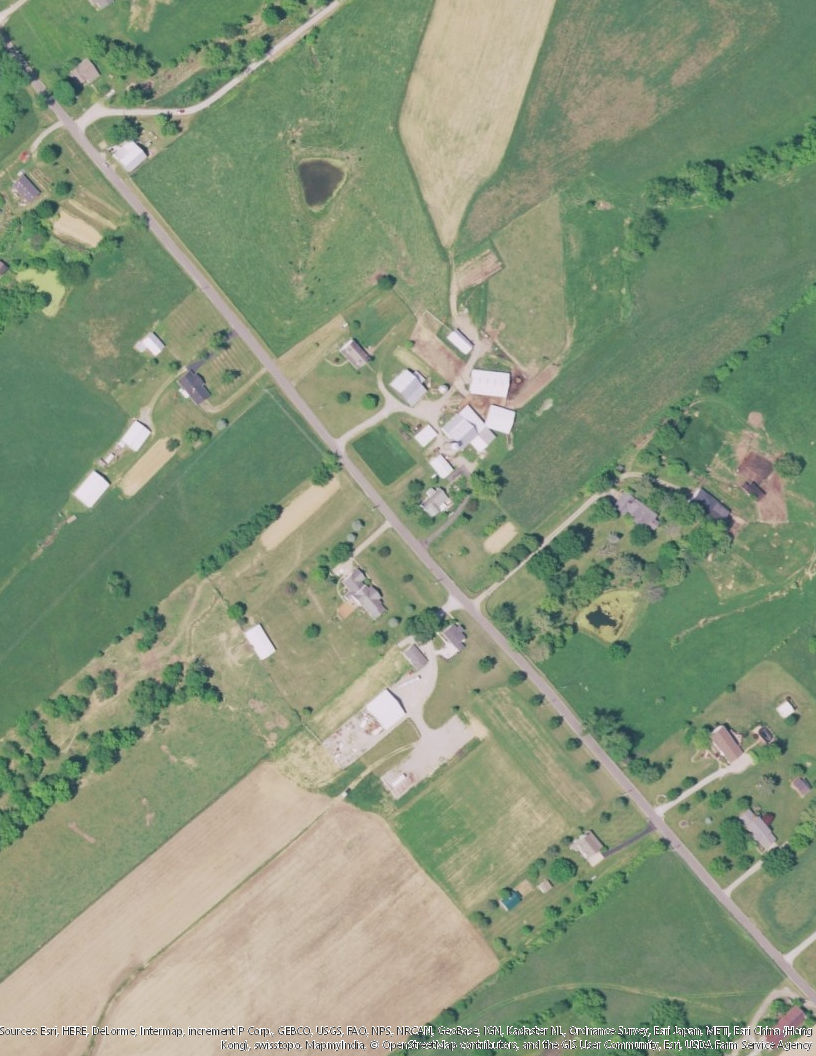cafo: (440, 400, 521, 456), (463, 366, 513, 397)
